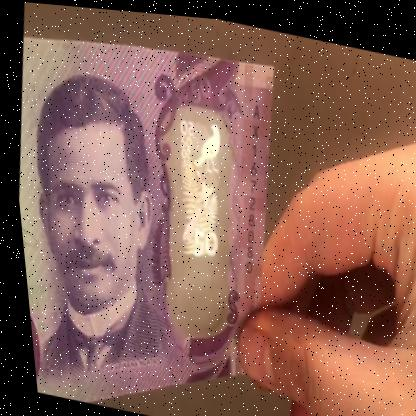50F: (147, 105, 242, 327)
